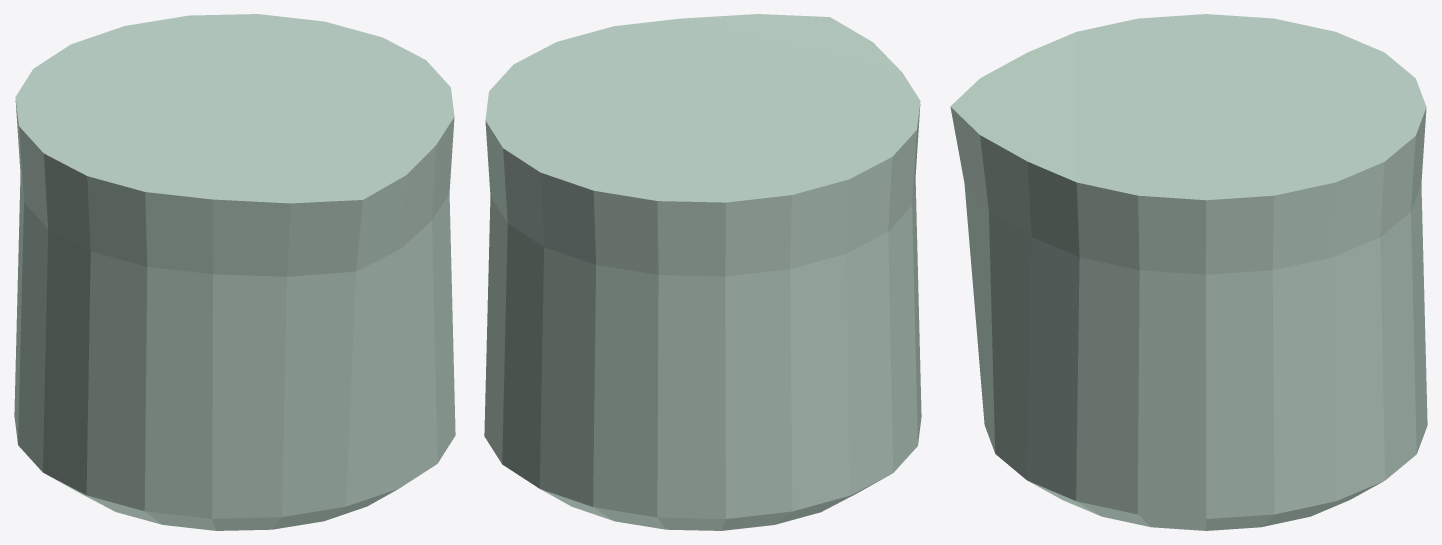
Rendered from GameAsset_CoffeeContainer_v02.fbx.
3 views of the same model, side by side, from view 1: azimuth 30°, elevation 25°; view 2: azimuth 150°, elevation 25°; view 3: azimuth 270°, elevation 25° (orthographic).
Parts seen in each view (by area): view 1: coffee container; view 2: coffee container; view 3: coffee container.
Part boxes in pixels (x1,y1,x2,y2): coffee container: (14, 14, 455, 530); coffee container: (484, 14, 921, 530); coffee container: (950, 14, 1427, 530).
Size of the model in its own units: 28.37 by 24.7 by 30.58.
